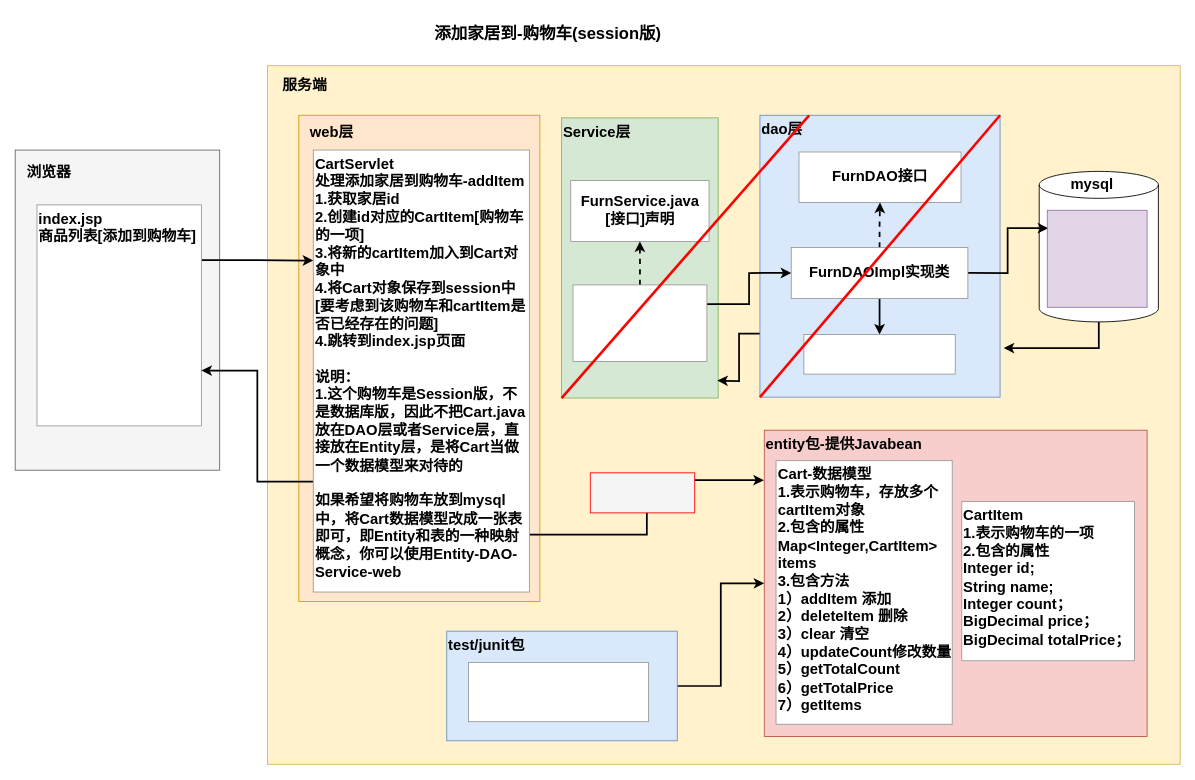
The diagram is 1195 pixels wide and 780 high, and some of its shapes have lost their labels. The shapes that lost their labels are listed below. From the top down, each one's centre as x and y in pixels, then its label:
At [1096,258]: "furn表[家居表] 字段 id name marker...".
At [639,322]: "FurnServiceImpl .java实现类".
At [879,354]: "BasicDAO[基础DAO]".
At [642,492]: "mvc模式".
At [558,692]: "CartTest 1.用于测试Cart是否正确".
